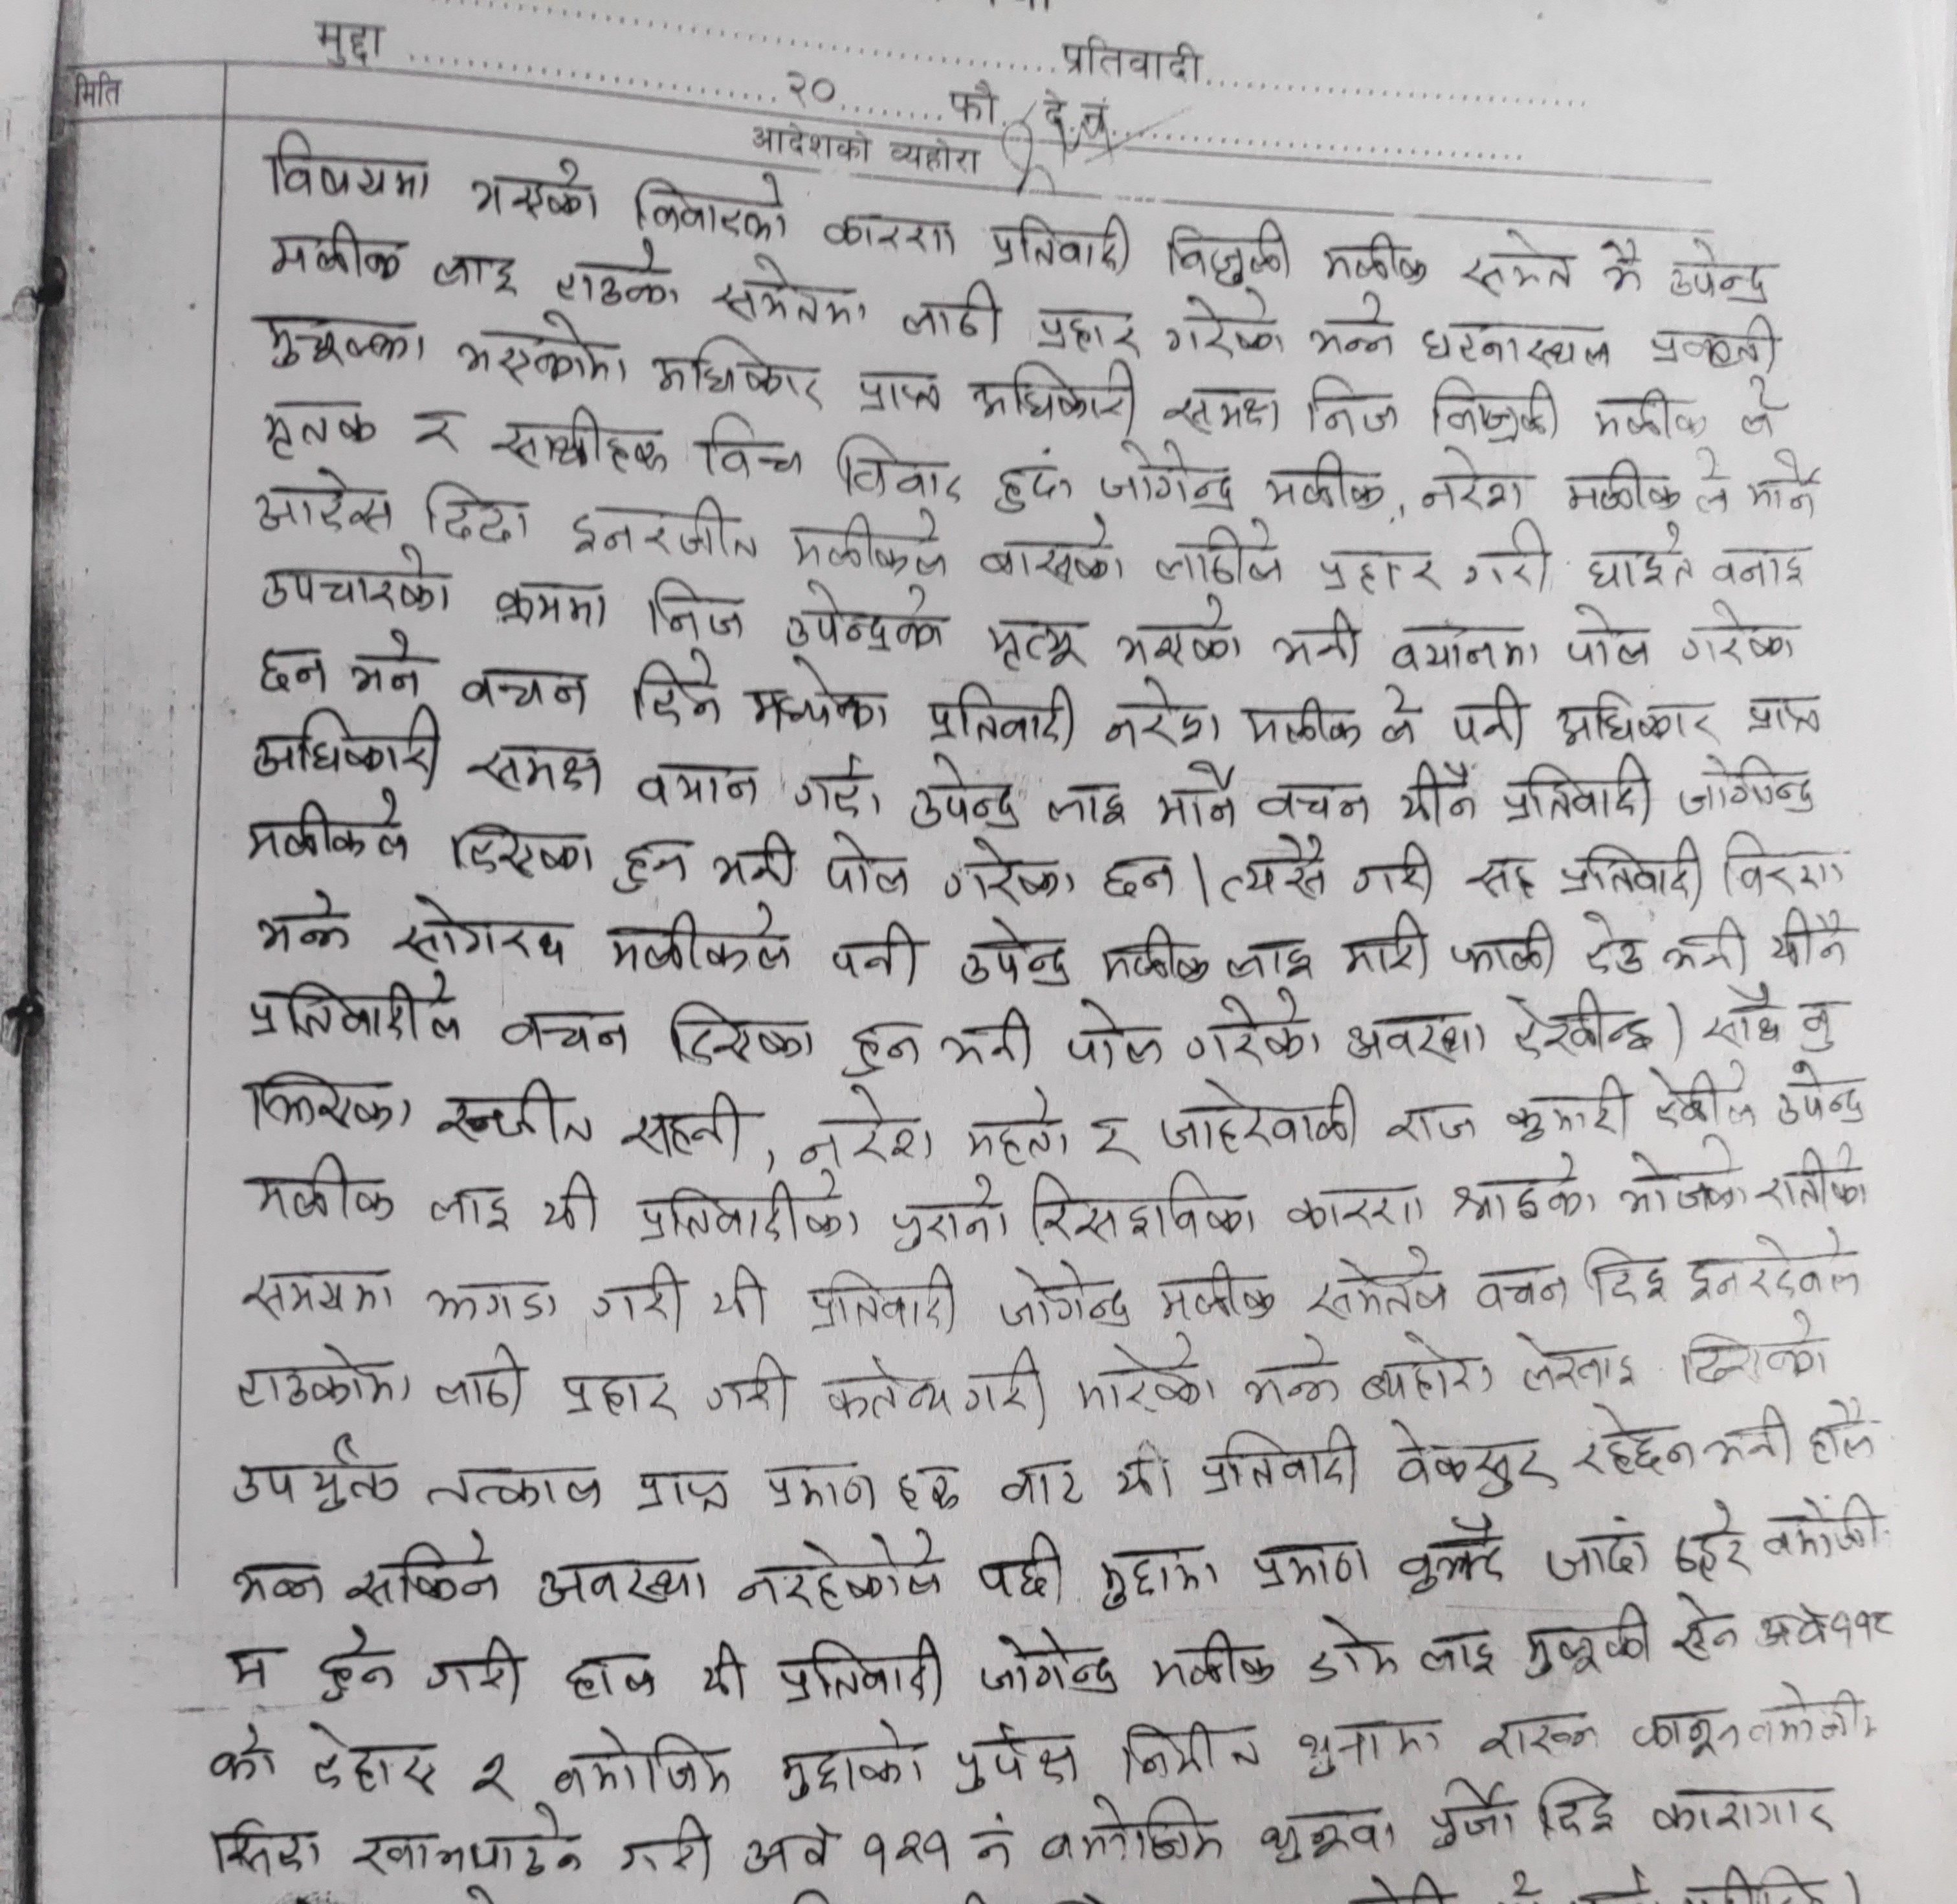text: (349, 1797, 582, 1885), (1629, 1677, 1863, 1759), (634, 1165, 860, 1249), (1026, 1167, 1258, 1247), (734, 1527, 945, 1612), (246, 968, 467, 1050), (1153, 1073, 1361, 1155), (248, 702, 444, 784), (547, 1722, 736, 1804), (606, 896, 800, 975), (260, 542, 458, 617), (1382, 1415, 1559, 1499), (1679, 1226, 1866, 1305), (245, 783, 412, 868), (390, 891, 571, 969), (776, 1714, 930, 1806), (231, 1434, 404, 1516), (234, 1336, 414, 1415), (1038, 1792, 1230, 1866), (774, 1628, 944, 1710), (484, 405, 669, 480), (344, 1525, 501, 1612), (564, 496, 767, 562), (807, 1258, 959, 1345), (706, 250, 874, 328), (456, 313, 631, 388), (781, 580, 954, 655), (1200, 1422, 1359, 1502), (793, 1081, 937, 1170), (266, 128, 432, 204), (786, 505, 959, 578), (965, 353, 1138, 424), (1497, 749, 1655, 828), (648, 335, 823, 405), (631, 168, 793, 243), (437, 1073, 596, 1148), (245, 1149, 402, 1224), (1181, 985, 1326, 1066), (977, 514, 1129, 589), (243, 1069, 418, 1134), (1073, 1331, 1202, 1418), (304, 1719, 439, 1803), (1520, 1598, 1655, 1682), (1681, 1308, 1826, 1385), (1099, 438, 1241, 517), (1359, 1329, 1501, 1408), (666, 997, 816, 1071), (1557, 833, 1707, 907), (746, 655, 889, 732), (255, 309, 435, 370), (536, 1551, 709, 1614), (1449, 1149, 1595, 1223), (926, 680, 1080, 749), (1305, 1249, 1450, 1322), (1649, 1785, 1833, 1843), (1419, 318, 1618, 370), (1113, 590, 1246, 669), (1569, 1401, 1698, 1481), (248, 465, 397, 535), (1504, 992, 1656, 1060), (889, 1170, 1012, 1254), (264, 217, 414, 285), (1618, 1141, 1753, 1216), (951, 1721, 1082, 1797), (938, 835, 1078, 907), (1702, 987, 1842, 1059), (998, 1259, 1134, 1333), (1672, 751, 1819, 819), (552, 232, 681, 309), (619, 1085, 748, 1162), (1428, 370, 1562, 444), (1396, 1513, 1513, 1597), (978, 1626, 1118, 1696), (959, 1081, 1073, 1167), (835, 430, 965, 505), (1153, 519, 1288, 590), (909, 751, 1020, 837), (1550, 688, 1711, 748), (821, 1352, 954, 1424), (1164, 213, 1293, 286), (956, 915, 1078, 992), (1758, 1492, 1889, 1563), (447, 819, 596, 882), (421, 1460, 605, 1511), (1297, 1717, 1443, 1780), (1501, 1073, 1632, 1142), (987, 213, 1132, 276), (239, 1265, 402, 1321), (1344, 1006, 1492, 1067), (1103, 674, 1223, 749), (1120, 1719, 1260, 1783), (470, 157, 599, 225), (1719, 830, 1847, 898), (1094, 1544, 1221, 1612), (1153, 1625, 1281, 1693), (1256, 1804, 1398, 1866), (1162, 290, 1288, 358), (1456, 227, 1576, 297), (1648, 311, 1781, 374), (1150, 1256, 1276, 1322), (1263, 449, 1386, 517), (1387, 620, 1541, 674), (1753, 1142, 1871, 1212), (1218, 830, 1330, 903), (1242, 1331, 1342, 1413), (1545, 1514, 1653, 1590), (631, 646, 727, 730), (1583, 521, 1698, 590), (461, 742, 610, 797), (1513, 1328, 1637, 1392), (1679, 599, 1796, 667), (1300, 1609, 1398, 1689), (1665, 238, 1777, 307), (425, 1633, 526, 1710), (1753, 1602, 1901, 1654), (423, 477, 531, 548), (1246, 1539, 1380, 1597), (699, 407, 809, 477), (900, 276, 1006, 348), (1062, 999, 1169, 1071), (961, 1342, 1050, 1427), (587, 1259, 688, 1335), (973, 1527, 1068, 1607), (1417, 445, 1525, 515), (1094, 922, 1209, 987), (1338, 905, 1431, 985), (500, 1004, 633, 1060), (559, 1366, 680, 1427), (1590, 384, 1711, 445), (1670, 1497, 1753, 1586), (612, 1806, 711, 1880), (1449, 917, 1559, 983), (1284, 1183, 1428, 1233), (491, 576, 617, 634), (458, 664, 591, 718), (1559, 456, 1683, 514), (1304, 290, 1403, 362), (1461, 517, 1553, 594), (1649, 1064, 1760, 1128), (819, 213, 965, 262), (1422, 1776, 1517, 1852), (260, 400, 379, 459), (430, 1340, 526, 1413), (313, 1621, 397, 1705), (253, 887, 356, 955), (762, 1459, 882, 1516), (645, 575, 746, 643), (1471, 1710, 1602, 1763), (1235, 695, 1365, 748), (788, 751, 884, 821), (1305, 372, 1401, 442), (1698, 1401, 1794, 1471), (1319, 231, 1435, 288), (1270, 603, 1363, 674), (1153, 756, 1239, 833), (1158, 384, 1283, 437), (631, 760, 764, 809), (1562, 603, 1655, 673), (982, 617, 1094, 674), (828, 919, 923, 987), (1658, 914, 1753, 982), (704, 1347, 793, 1418), (940, 1004, 1036, 1071), (1317, 545, 1443, 596), (421, 1282, 564, 1326), (1349, 838, 1440, 907), (1772, 1062, 1864, 1128), (563, 1642, 662, 1703), (1398, 756, 1476, 833), (344, 624, 425, 699), (821, 828, 912, 894), (991, 447, 1078, 515), (1029, 302, 1138, 356), (1443, 680, 1529, 748), (1251, 777, 1370, 826), (854, 1824, 954, 1881), (709, 828, 802, 889), (1767, 903, 1854, 968), (1803, 1392, 1878, 1467), (1573, 907, 1651, 978), (1581, 1244, 1669, 1307), (1536, 1775, 1620, 1839), (741, 1824, 840, 1878), (1747, 445, 1819, 519), (631, 1466, 734, 1516), (610, 837, 695, 896), (998, 1455, 1083, 1514), (428, 250, 528, 300), (1382, 1099, 1485, 1148), (851, 363, 947, 416), (846, 1020, 928, 1081), (1670, 1590, 1740, 1661), (231, 1560, 332, 1609), (1475, 1265, 1567, 1317), (1417, 1626, 1501, 1684), (1711, 542, 1812, 589), (1223, 936, 1317, 985), (423, 1183, 514, 1231), (1106, 1441, 1176, 1504), (708, 1259, 772, 1326), (895, 1457, 965, 1516), (257, 643, 335, 695), (1043, 781, 1127, 830), (1097, 852, 1181, 901), (540, 1169, 601, 1235), (1742, 692, 1828, 737), (1468, 851, 1543, 901), (1592, 232, 1648, 297), (1085, 1113, 1146, 1170), (467, 1750, 522, 1811), (965, 1811, 1022, 1869), (699, 1635, 750, 1700), (1737, 376, 1788, 440), (1691, 447, 1735, 521), (1380, 683, 1422, 746), (227, 1644, 280, 1693), (407, 409, 458, 454)
